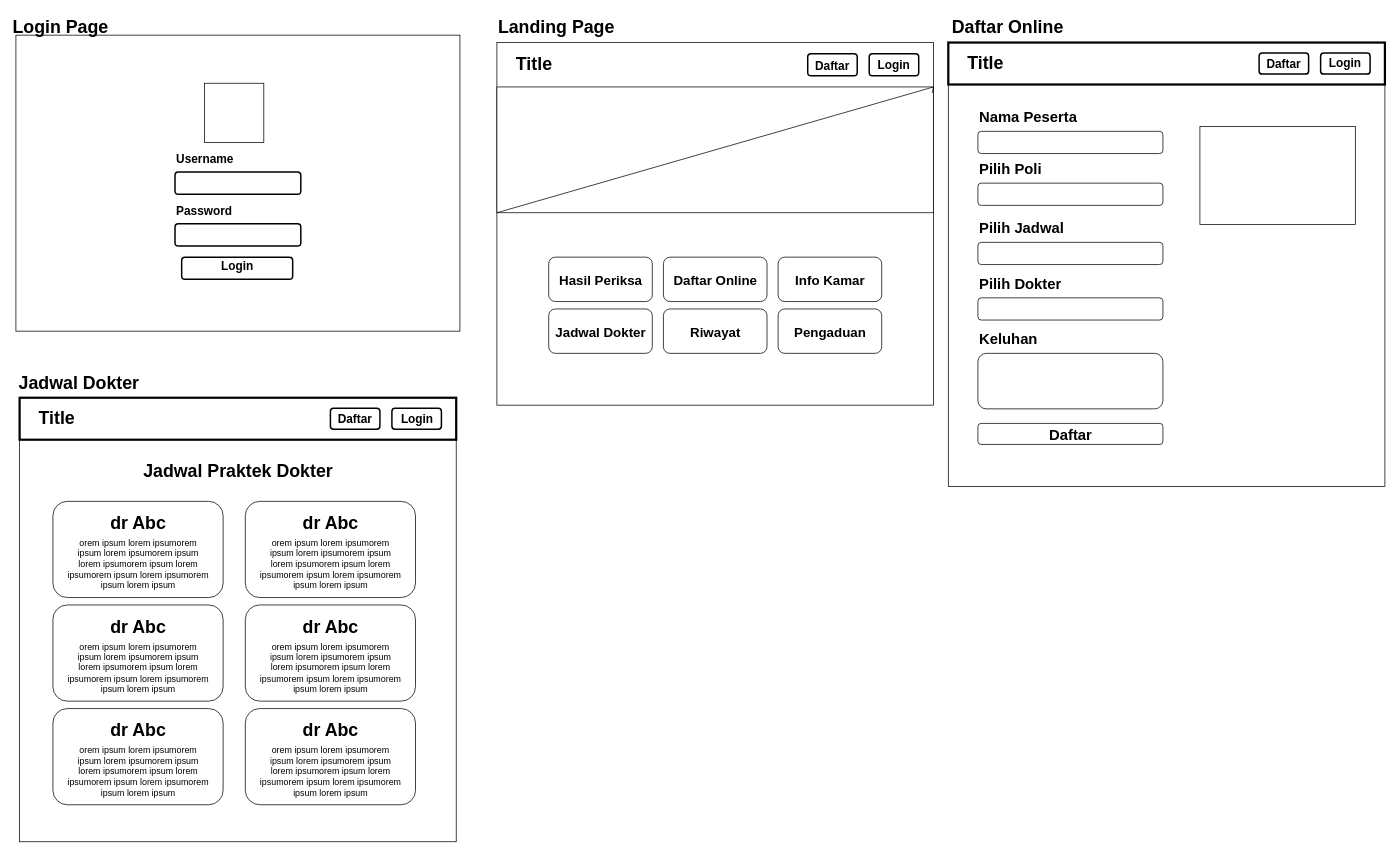
The diagram is 1399 pixels wide and 855 high, and some of its shapes have lost their labels. Each missing label, with the centre of its shape:
"Gambar Carousel" belongs at [715,149].
"LOGO" belongs at [234,112].
"NO ANTRIAN" belongs at [1277,175].
